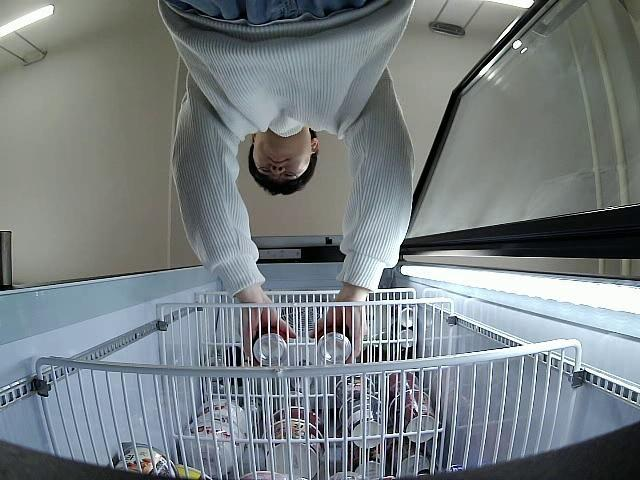11_cocaColaZero: (314, 322, 353, 364), (254, 326, 288, 366)
